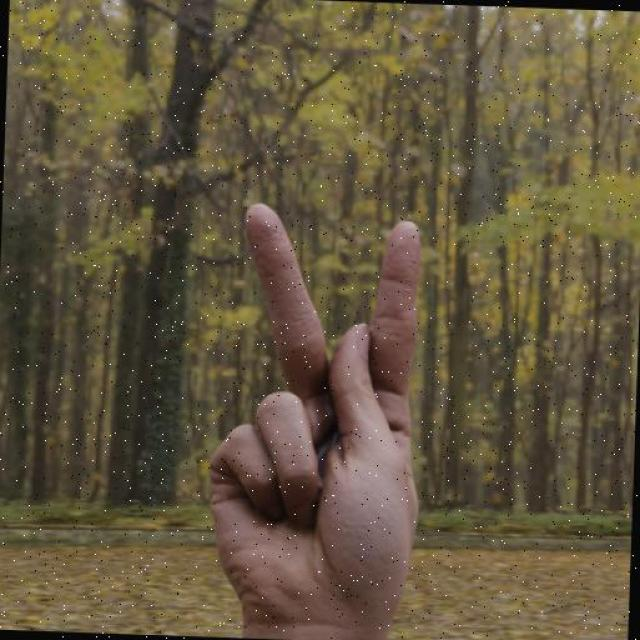K: (200, 197, 435, 640)
